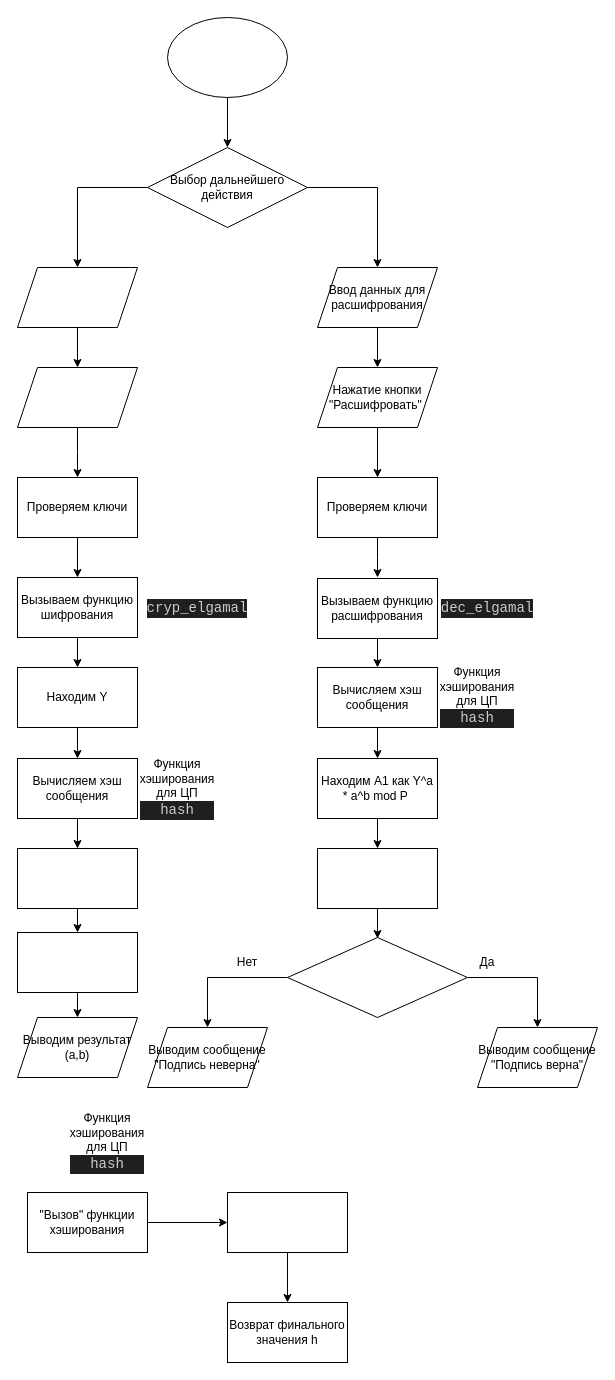
Some shapes in this 615 by 1380 pixel diagram are drawn without their labels. The centre of each missing label's shape, as x and y in pixels:
A1=A2: (377,977)
Ввод данных для шифрования: (77,297)
Нажатие кнопки "Шифровать": (77,397)
Находим A как G ^ K mod P: (77,878)
Находим A2 как G ^ m(хэш) mod P: (377,878)
Находим B из уравнения m = X * a + K * b mod (P-1): (77,962)
Начало: (227,57)
Посимвольное вычисление по формуле ((M[i] + 1) + h) ^ 2 mod n: (287,1222)
